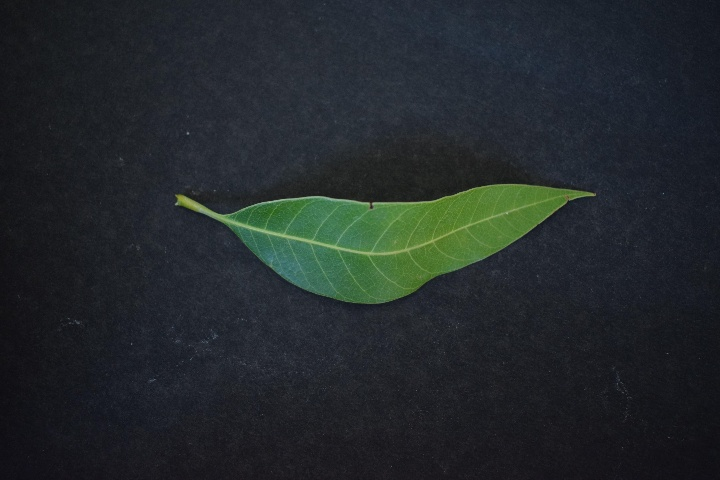healthy: (231, 174, 603, 314)
